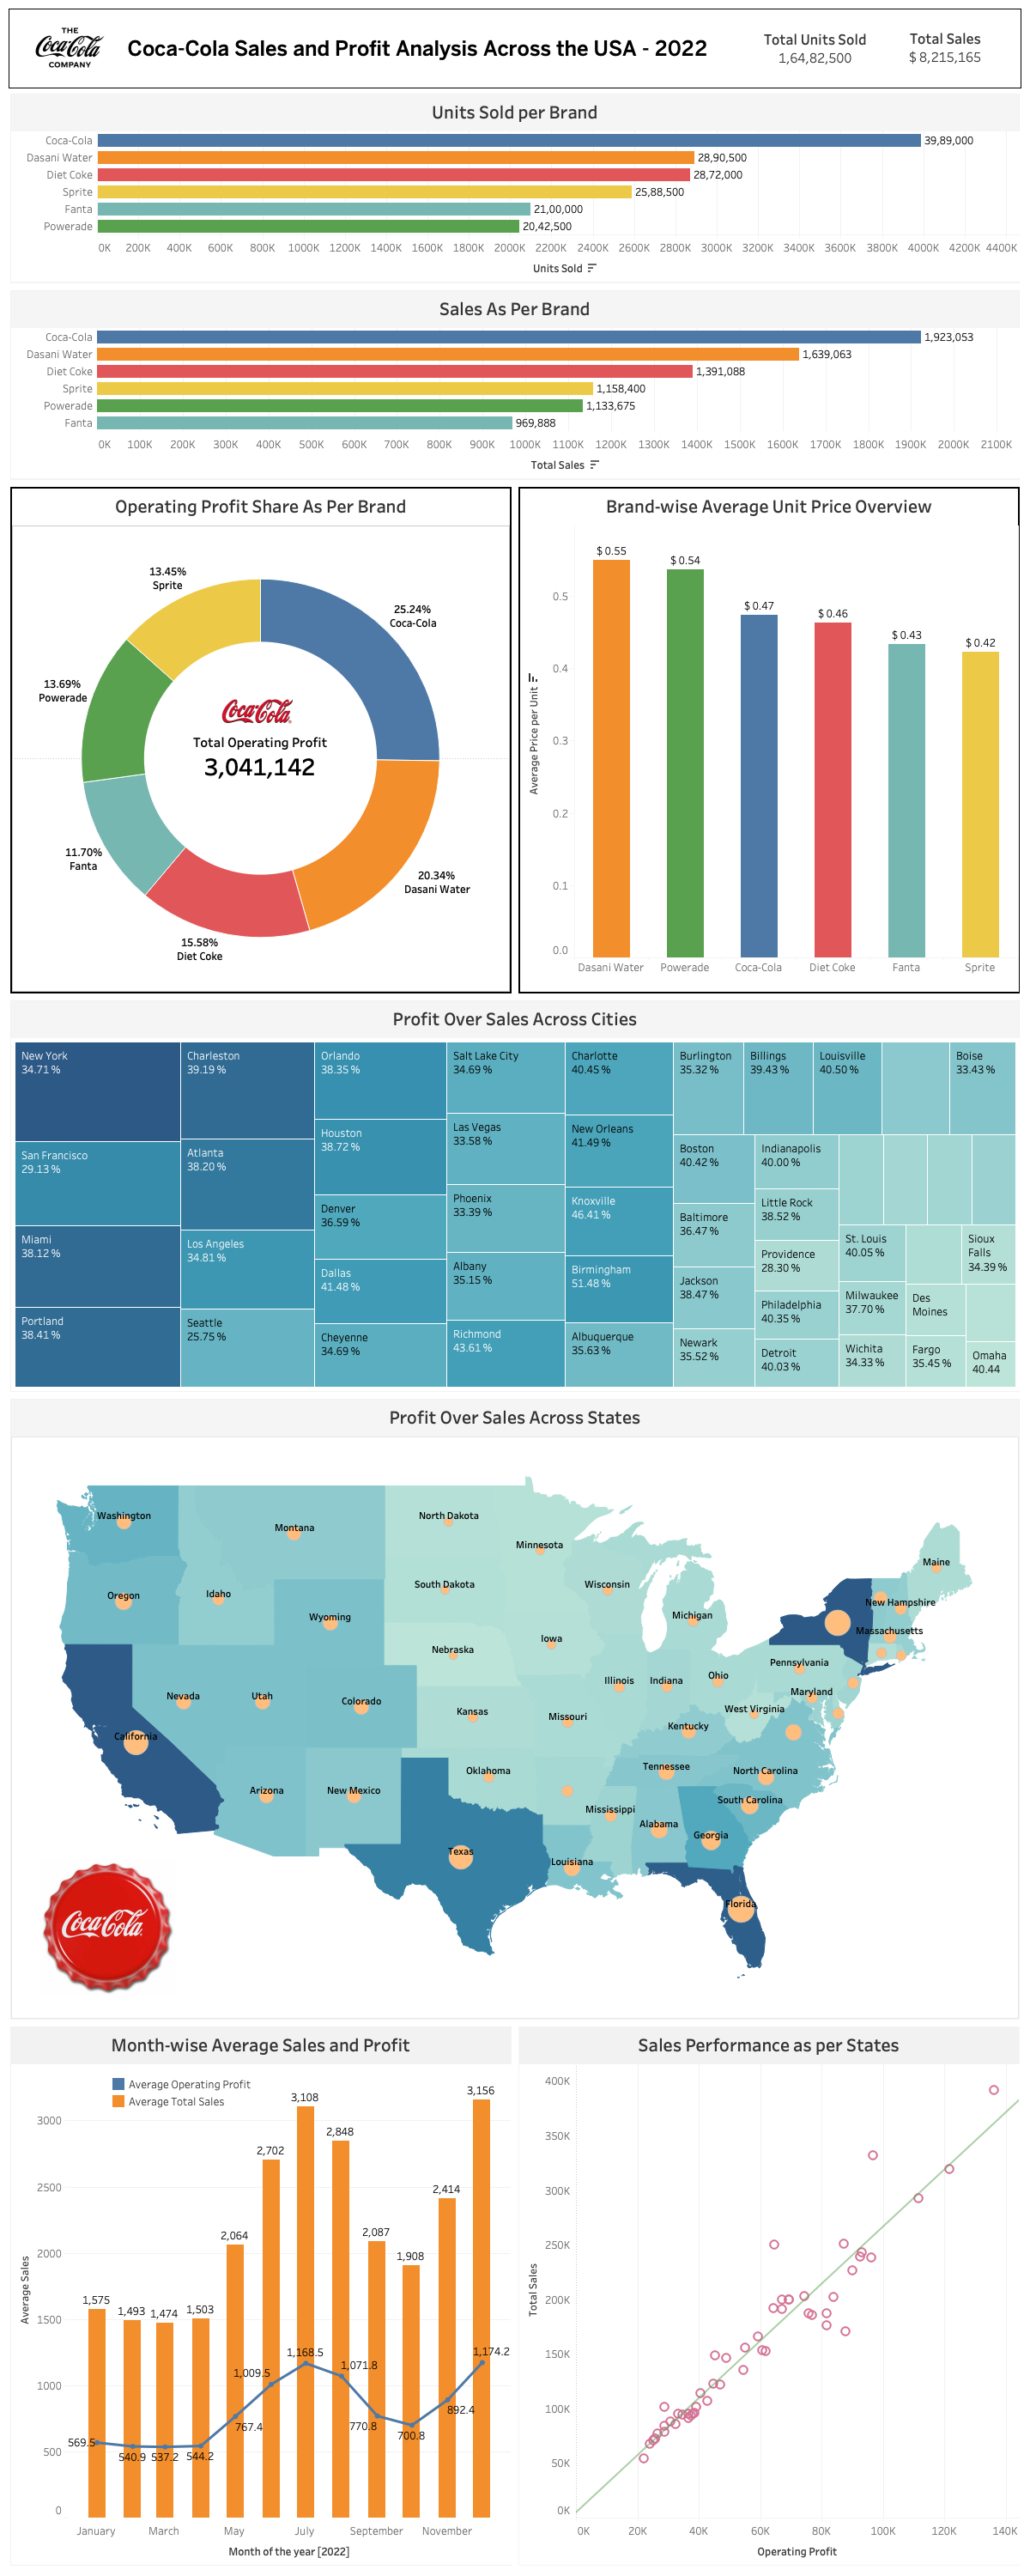

This screenshot's page, from the dashboard's own definition file:
{"tool":"tableau","page":{"name":"Dashboard 1","canvas":[1200,3000],"ordinal":0},"visuals":[{"type":"title","box":[8,8,1184,97]},{"type":"image","box":[28,12,108,87]},{"type":"worksheet","title":"Sales KPI","mark":"Automatic","box":[1026,34,154,49]},{"type":"worksheet","title":"Units Sold KPI","mark":"Automatic","box":[880,35,154,51]},{"type":"worksheet","title":"Units Sold per Brand","mark":"Automatic","rows":["Beverage Brand"],"cols":["Units Sold"],"box":[8,105,1184,228.9]},{"type":"worksheet","title":"Sales As Per Brand","mark":"Automatic","rows":["Beverage Brand"],"cols":["Total Sales"],"box":[8,333.9,1184,229]},{"type":"worksheet","title":"Operating Profit Share As Per Brand","mark":"Pie","rows":["Data_A5165BE1E3D24C2398FEADE4B9C576F0","Data_A5165BE1E3D24C2398FEADE4B9C576F0"],"box":[8,562.9,592,598]},{"type":"worksheet","title":"Brand-wise Average Unit Price Overview","mark":"Automatic","rows":["Price per  Unit"],"cols":["Beverage Brand"],"box":[600,562.9,592,598]},{"type":"image","param":"Image/Coca White _ M&I.jpeg","box":[222,798,162,60]},{"type":"worksheet","title":"Profit Over Sales Across Cities","mark":"Automatic","box":[8,1160.9,1184,464]},{"type":"worksheet","title":"Profit Over Sales Across States","mark":"Automatic","box":[8,1624.9,1184,731]},{"type":"image","param":"Image/coke.png","box":[38,2165,174,158]},{"type":"worksheet","title":"Month-wise Average Sales and Profit","mark":"Line","rows":["Total Sales","Operating Profit"],"cols":["Invoice Date"],"box":[8,2356,1184,636]},{"type":"legend","title":"Month-wise Average Sales and Profit","param":"[federated.0nxdb7s0zac0nx1bsxd5n0a6jmrc].[:Measure Names]","box":[128,2417,175,47]}]}

Visuals, with their boxes in screenshot pixels (x1, y1, x2, y2), scaled from the page's 1200x3000 canvas onto the 1030x2576 screenshot:
title: box=[7, 7, 1023, 90]
image: box=[24, 10, 117, 85]
"Sales KPI" worksheet: box=[881, 29, 1013, 71]
"Units Sold KPI" worksheet: box=[755, 30, 888, 74]
"Units Sold per Brand" worksheet: box=[7, 90, 1023, 287]
"Sales As Per Brand" worksheet: box=[7, 287, 1023, 483]
"Operating Profit Share As Per Brand" worksheet (Pie marks): box=[7, 483, 515, 997]
"Brand-wise Average Unit Price Overview" worksheet: box=[515, 483, 1023, 997]
image: box=[191, 685, 330, 737]
"Profit Over Sales Across Cities" worksheet: box=[7, 997, 1023, 1395]
"Profit Over Sales Across States" worksheet: box=[7, 1395, 1023, 2023]
image: box=[33, 1859, 182, 1995]
"Month-wise Average Sales and Profit" worksheet (Line marks): box=[7, 2023, 1023, 2569]
"Month-wise Average Sales and Profit" legend: box=[110, 2075, 260, 2116]
